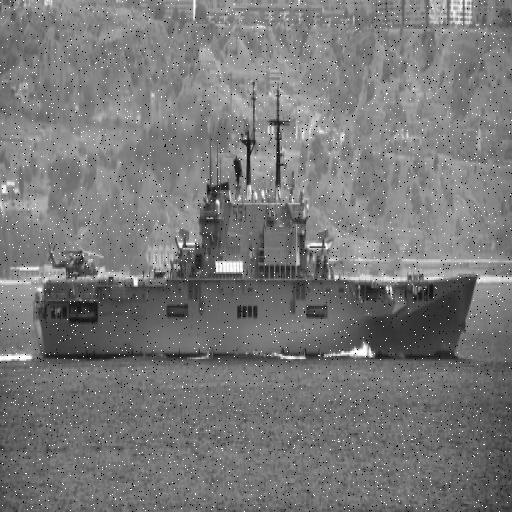Portanaves: (32, 74, 479, 367)
